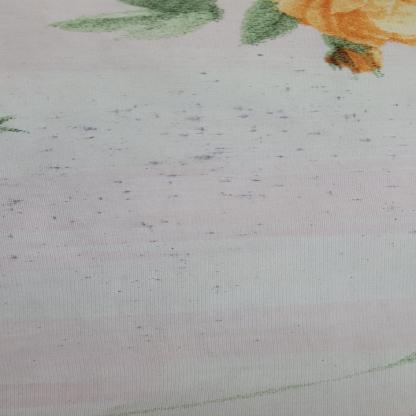spot: (182, 145, 226, 164), (89, 107, 163, 118), (35, 159, 80, 177), (218, 176, 245, 200), (71, 127, 117, 139), (4, 193, 29, 214), (121, 218, 179, 227), (233, 101, 259, 120), (45, 213, 86, 225), (382, 198, 404, 220), (183, 122, 215, 136), (5, 254, 42, 265), (188, 102, 206, 124), (300, 128, 334, 138), (206, 148, 220, 172), (272, 107, 292, 123), (157, 170, 181, 183), (380, 178, 402, 192), (148, 155, 165, 173), (202, 224, 226, 236), (362, 136, 382, 150), (103, 145, 132, 154), (244, 220, 276, 228), (271, 147, 289, 161), (207, 280, 226, 293), (0, 230, 19, 242), (329, 94, 354, 103), (322, 153, 349, 161), (345, 108, 361, 121), (162, 192, 188, 200), (173, 263, 196, 272), (392, 100, 409, 112), (381, 114, 406, 122), (64, 193, 80, 205), (145, 233, 162, 244), (268, 181, 288, 190), (134, 252, 154, 261), (56, 244, 80, 251), (125, 324, 152, 330), (78, 276, 101, 283), (173, 253, 204, 258), (249, 175, 266, 184), (291, 142, 306, 152), (115, 196, 138, 202), (349, 194, 362, 204), (97, 193, 110, 203), (113, 177, 130, 184), (122, 186, 136, 194), (383, 149, 392, 161), (166, 243, 176, 253), (94, 208, 106, 216), (115, 286, 128, 293), (46, 136, 64, 141), (322, 188, 333, 195)
